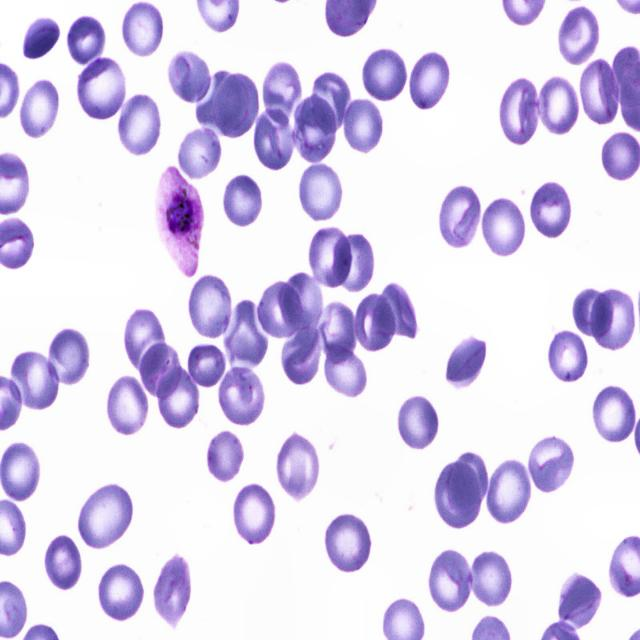difficult: (155, 164, 205, 277)
red blood cell: (74, 482, 136, 551), (74, 51, 130, 124), (433, 462, 482, 533), (290, 93, 339, 163), (225, 300, 272, 371), (9, 347, 58, 414), (322, 510, 373, 574), (231, 480, 279, 548), (95, 561, 146, 624), (252, 101, 296, 174), (526, 434, 576, 498), (194, 68, 247, 128), (436, 183, 482, 251), (275, 431, 320, 500), (556, 4, 602, 71), (428, 548, 474, 614), (590, 286, 636, 352), (214, 73, 259, 140), (497, 78, 540, 148), (156, 364, 200, 432), (308, 224, 354, 289), (480, 196, 528, 258), (105, 372, 150, 438), (260, 62, 305, 128), (187, 275, 233, 339), (256, 281, 305, 341), (125, 308, 167, 377), (352, 291, 398, 354), (117, 92, 162, 156), (591, 384, 637, 446), (536, 74, 581, 137), (408, 49, 452, 113), (310, 67, 353, 132), (47, 326, 92, 388), (361, 44, 409, 102), (218, 368, 266, 426), (578, 58, 620, 124), (153, 556, 192, 627), (528, 179, 574, 239), (18, 77, 61, 141), (175, 124, 224, 180), (377, 278, 418, 344), (298, 161, 343, 221), (557, 572, 605, 628), (334, 228, 374, 295), (119, 0, 166, 57), (165, 52, 214, 106), (488, 460, 529, 524), (472, 549, 514, 611), (317, 302, 359, 364), (572, 282, 614, 344), (448, 452, 490, 514), (279, 275, 325, 331), (140, 343, 182, 403), (398, 393, 441, 451), (444, 337, 492, 388), (282, 326, 324, 384), (44, 530, 82, 594), (222, 170, 264, 227), (322, 344, 366, 398), (343, 97, 384, 154), (547, 332, 590, 383), (69, 14, 108, 70), (208, 432, 246, 483), (22, 14, 62, 62), (188, 343, 226, 390)
